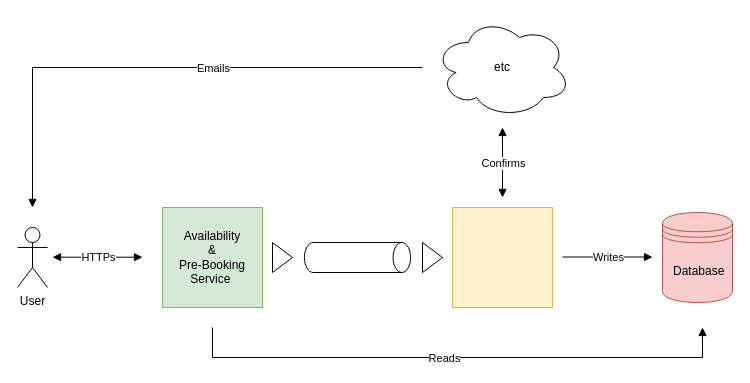
Some shapes in this 750 by 383 pixel diagram are drawn without their labels. Each missing label, with the centre of its shape:
AMQP: the point at 357,257
Reservation Service: the point at 502,257
